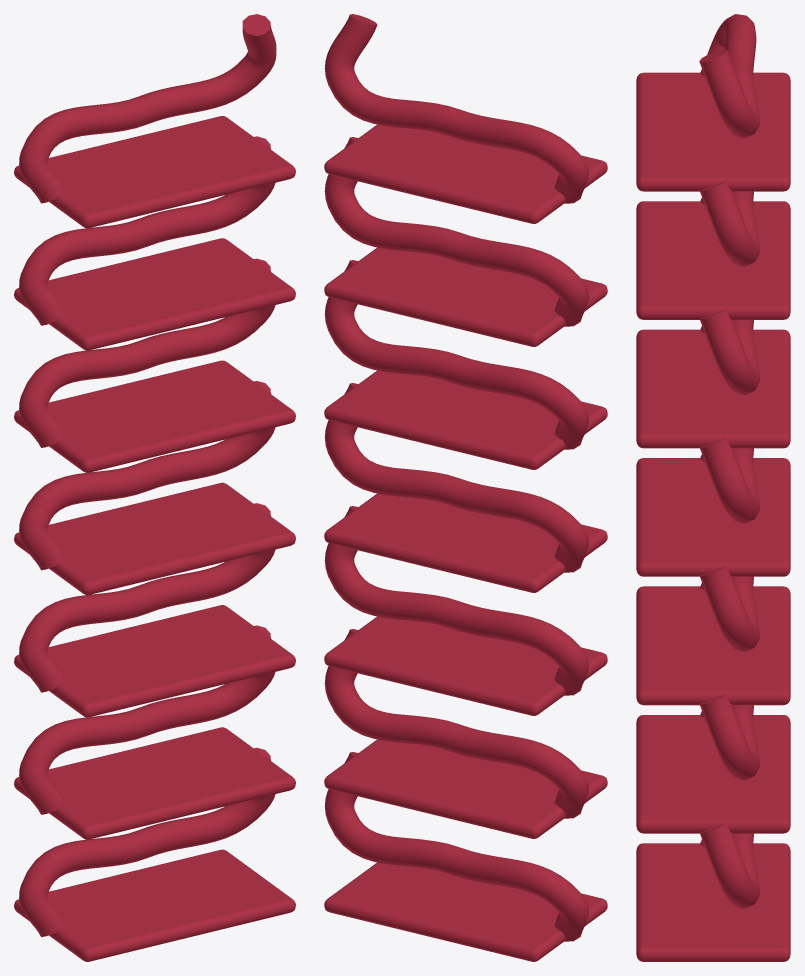
The model's file is ref01_09.glb.
The picture shows the model from 3 angles, left to right: view 1: azimuth 30°, elevation 25°; view 2: azimuth 150°, elevation 25°; view 3: azimuth 270°, elevation 25°; orthographic projection. The views are drawn at different scales.
Parts seen in each view (by area): view 1: ref01_09; view 2: ref01_09; view 3: ref01_09.
Part boxes in pixels (bbox=[...]): ref01_09: bbox=[14, 14, 295, 961]; ref01_09: bbox=[324, 14, 607, 961]; ref01_09: bbox=[636, 14, 790, 961].
Bounding box in the file's own units: 0.5031 × 1.63 × 0.25.
